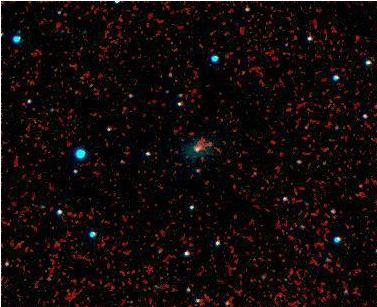star: (196, 129, 226, 159)
